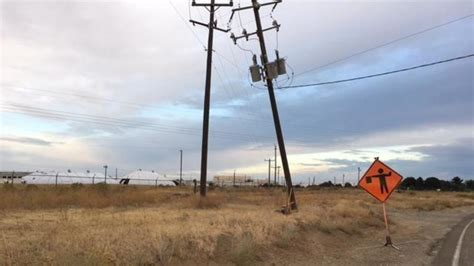pole: (227, 3, 314, 210), (184, 1, 242, 198)
